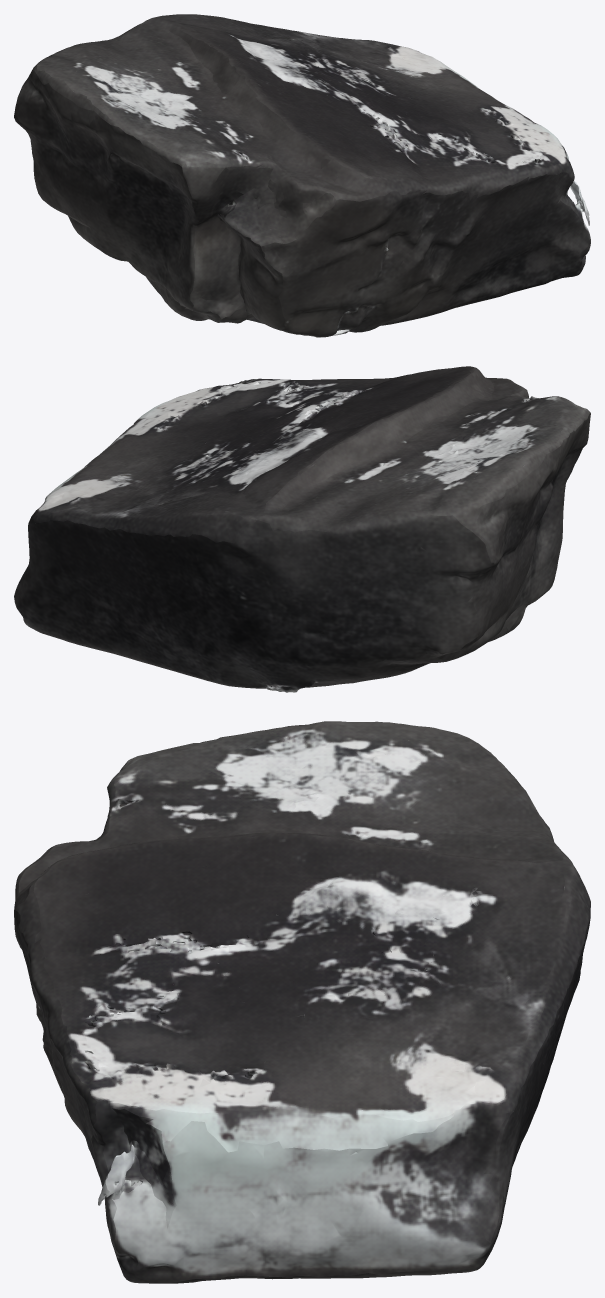
3 renders of one model, top to bottom at view 1: azimuth 30°, elevation 25°; view 2: azimuth 150°, elevation 25°; view 3: azimuth 270°, elevation 25°, orthographic. The views are drawn at different scales.
Visible parts, largest first — view 1: world; view 2: world; view 3: world.
Boxes of the visible parts, <box> form: world: <box>14,14,590,337</box>; world: <box>14,366,590,692</box>; world: <box>14,721,590,1283</box>.
Bounding box in the file's own units: 0.45 × 0.2203 × 0.3859.
1 material, 1 textured.
